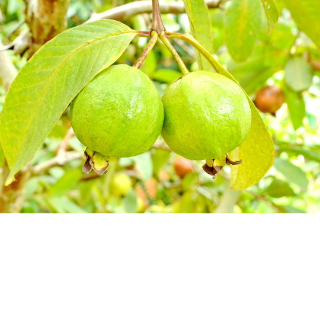oi: (68, 61, 166, 174), (157, 68, 252, 174)
